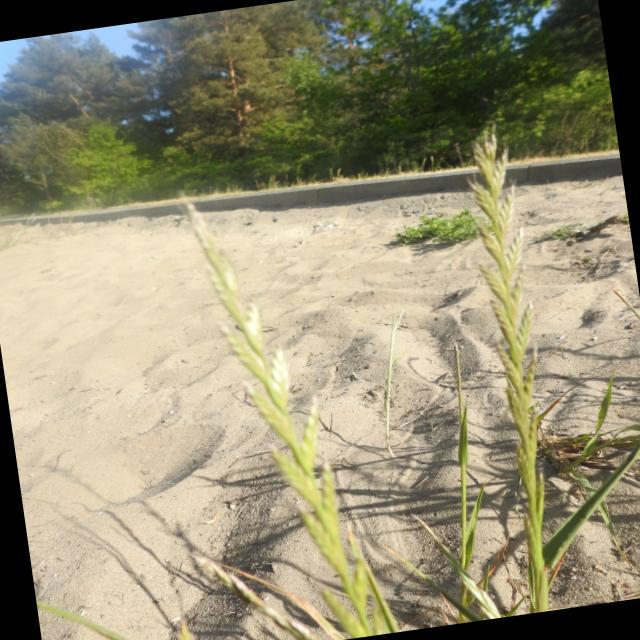Lolium: (175, 176, 388, 640), (428, 121, 607, 618)
